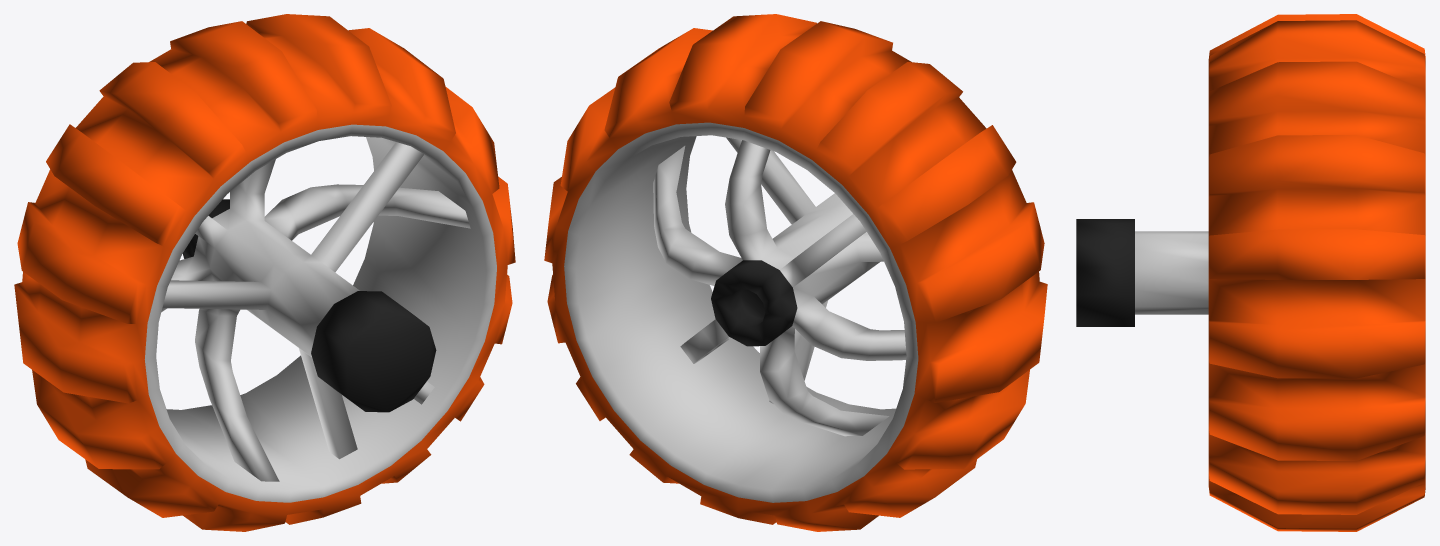
The model's file is Rueda_Tra_Izq.obj.
3 views of the same model, side by side, from view 1: azimuth 30°, elevation 25°; view 2: azimuth 150°, elevation 25°; view 3: azimuth 270°, elevation 25° (orthographic).
Parts seen in each view (by area): view 1: Rueda_Tra_Izq; view 2: Rueda_Tra_Izq; view 3: Rueda_Tra_Izq.
Part boxes in pixels (box(x1,y1,x2,y2)): Rueda_Tra_Izq: box(14, 14, 515, 531); Rueda_Tra_Izq: box(544, 14, 1047, 531); Rueda_Tra_Izq: box(1076, 14, 1425, 531).
Size of the model in its own units: 2.48 by 2.48 by 1.67.
